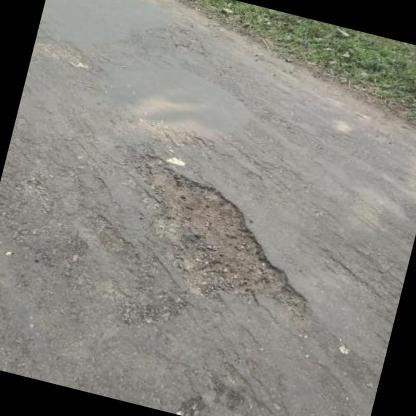pothole: (102, 148, 338, 330)
